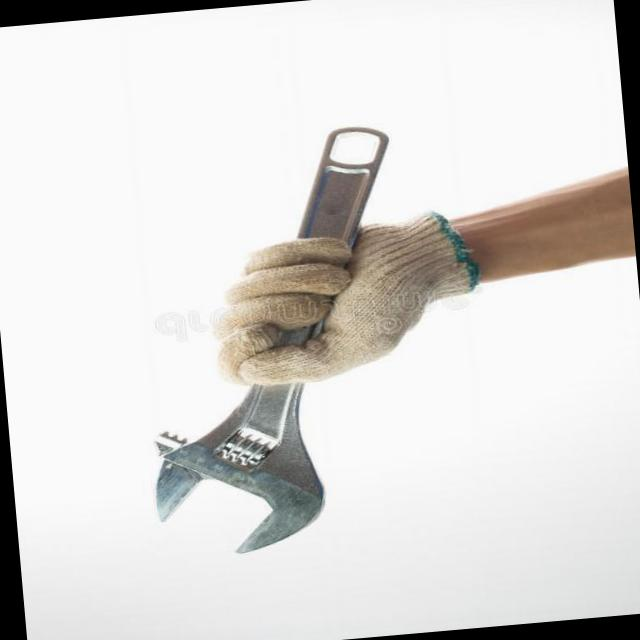wrench: (155, 382, 324, 553), (298, 128, 387, 246)
